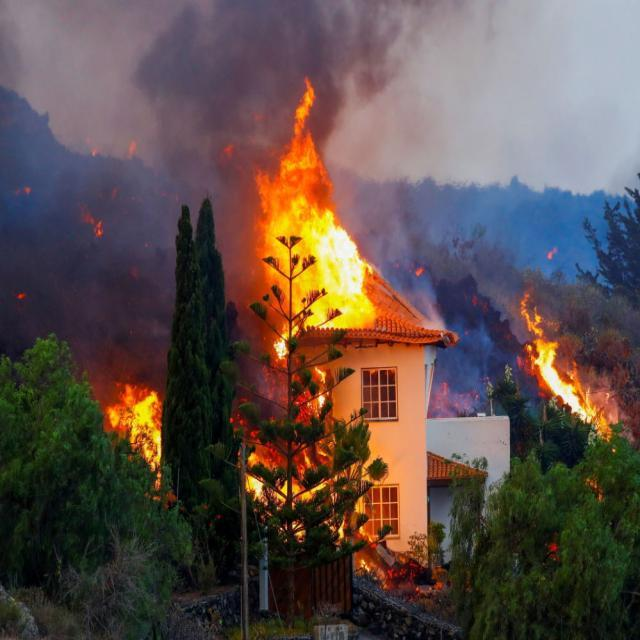Fire: (522, 290, 592, 422), (302, 210, 368, 296), (106, 378, 162, 456)
Smoke: (140, 0, 252, 203), (254, 0, 389, 79)
